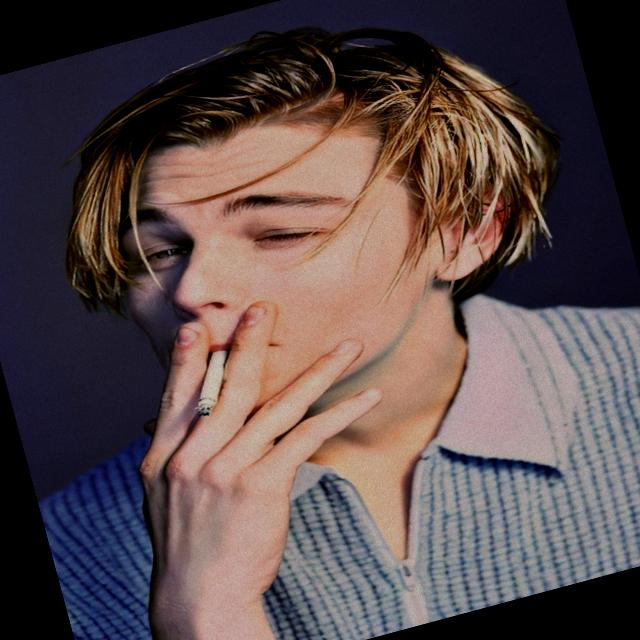cigarette: (161, 326, 267, 441)
